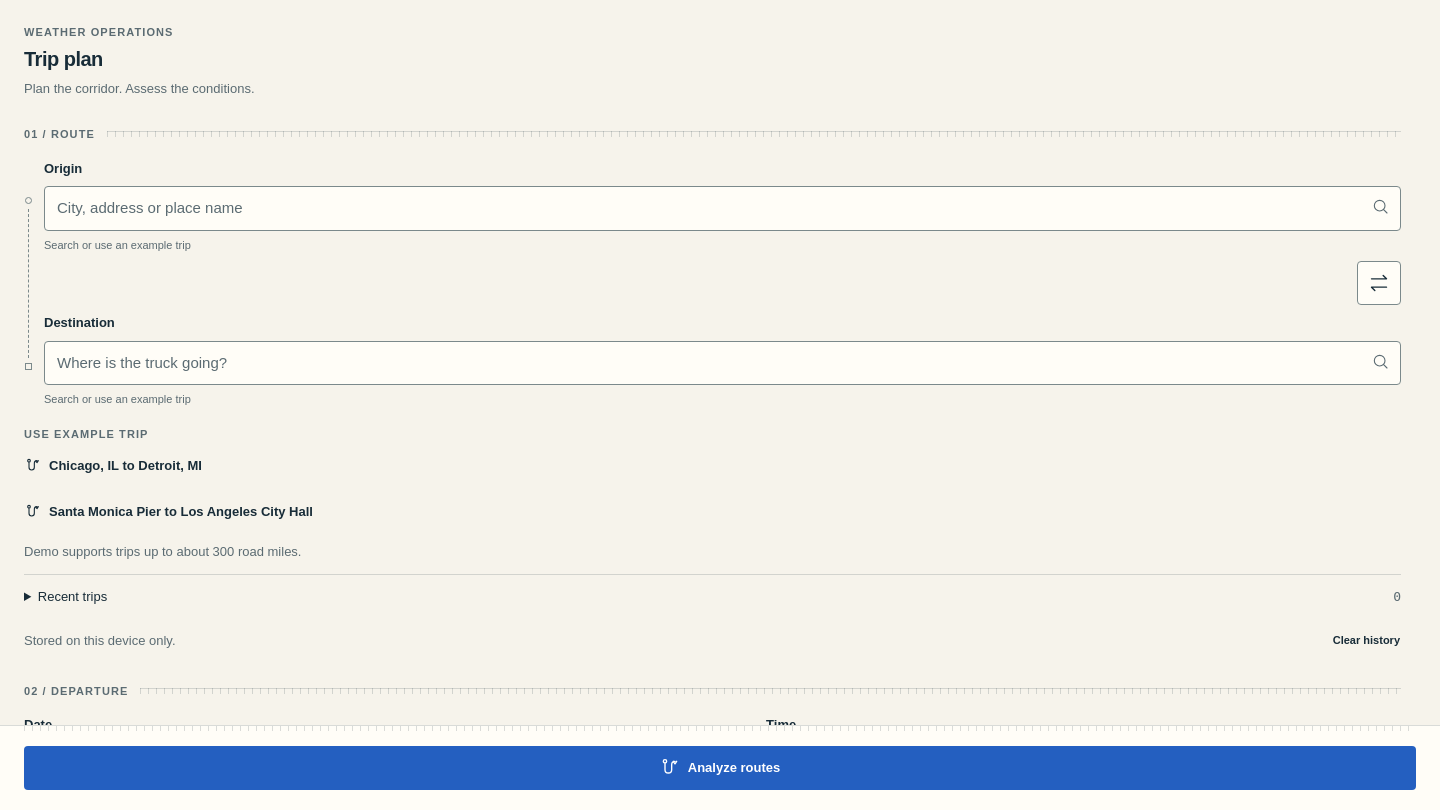
it: pending progress disables submit; cancellation aborts without an error or late success
Click the button "Chicago, IL to Detroit, MI" at (125, 466), box [24,444,1401,488]
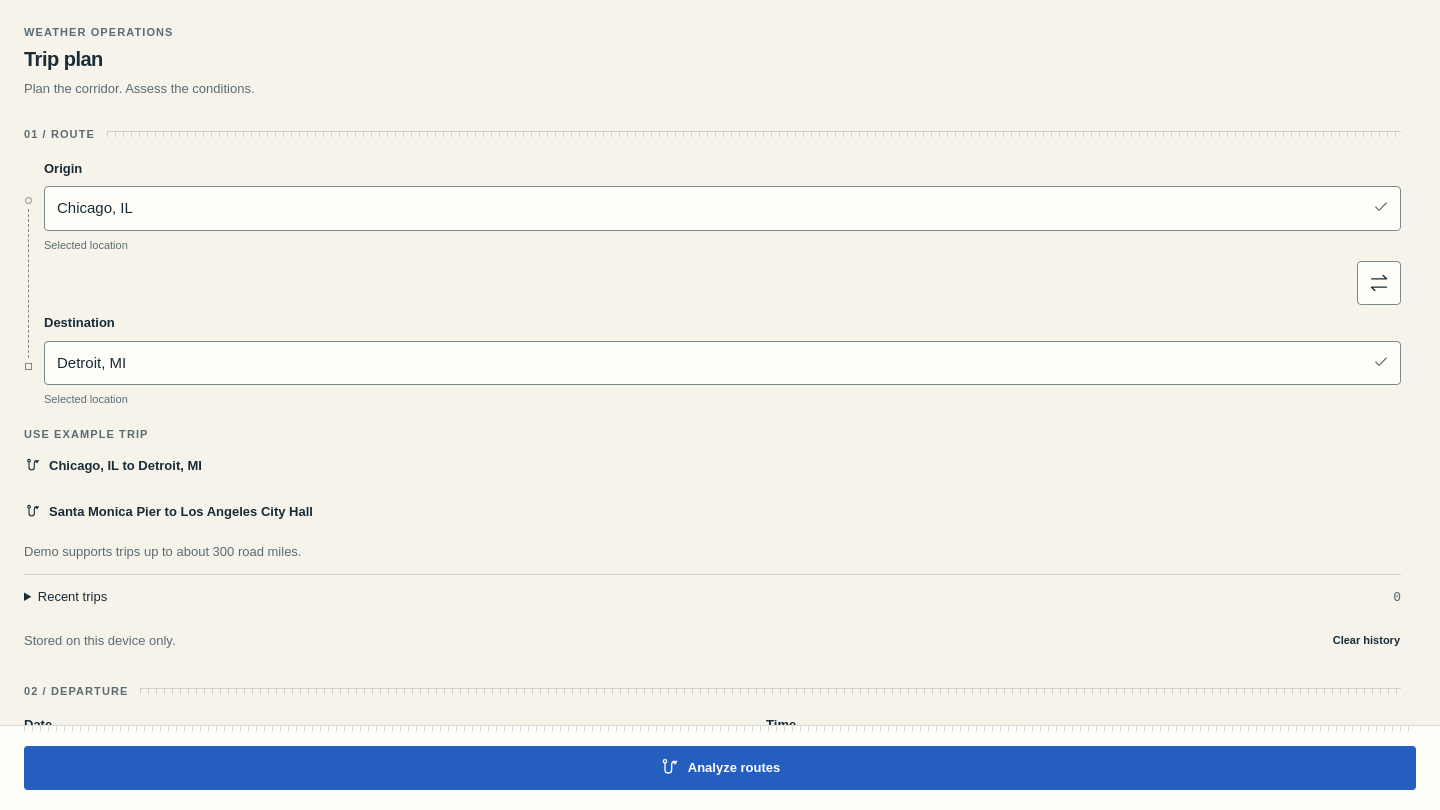
Click the button "Analyze routes" at (720, 768), box [24,746,1416,790]
Wait 9000 ms
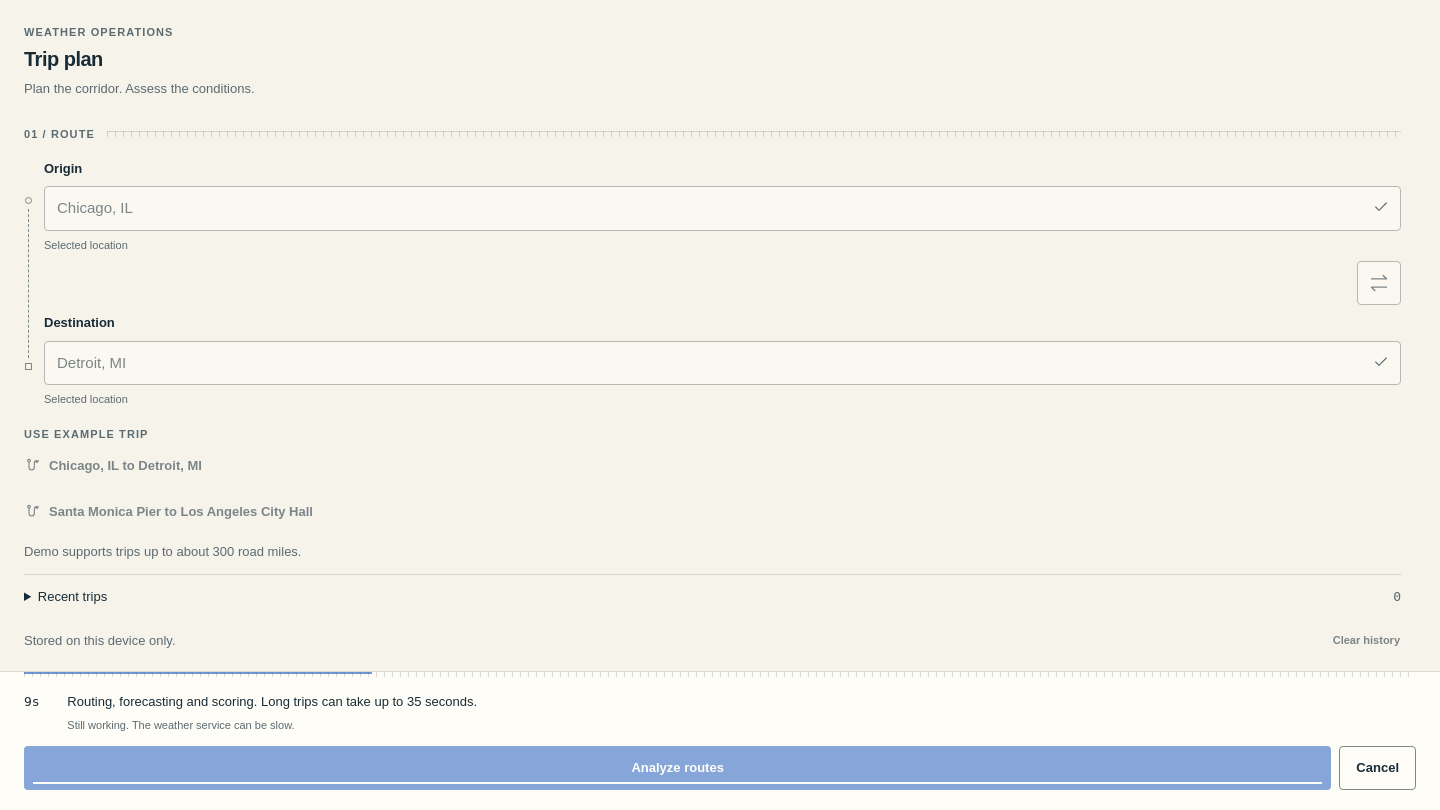
Check: the button "Analyze routes" is disabled, box [24,746,1331,790]
Check: the text "Still working. The weather service can be slow." is shown, box [67,720,295,732]
Click the button "Cancel" at (1378, 768), box [1339,746,1416,790]
Wait 50 ms
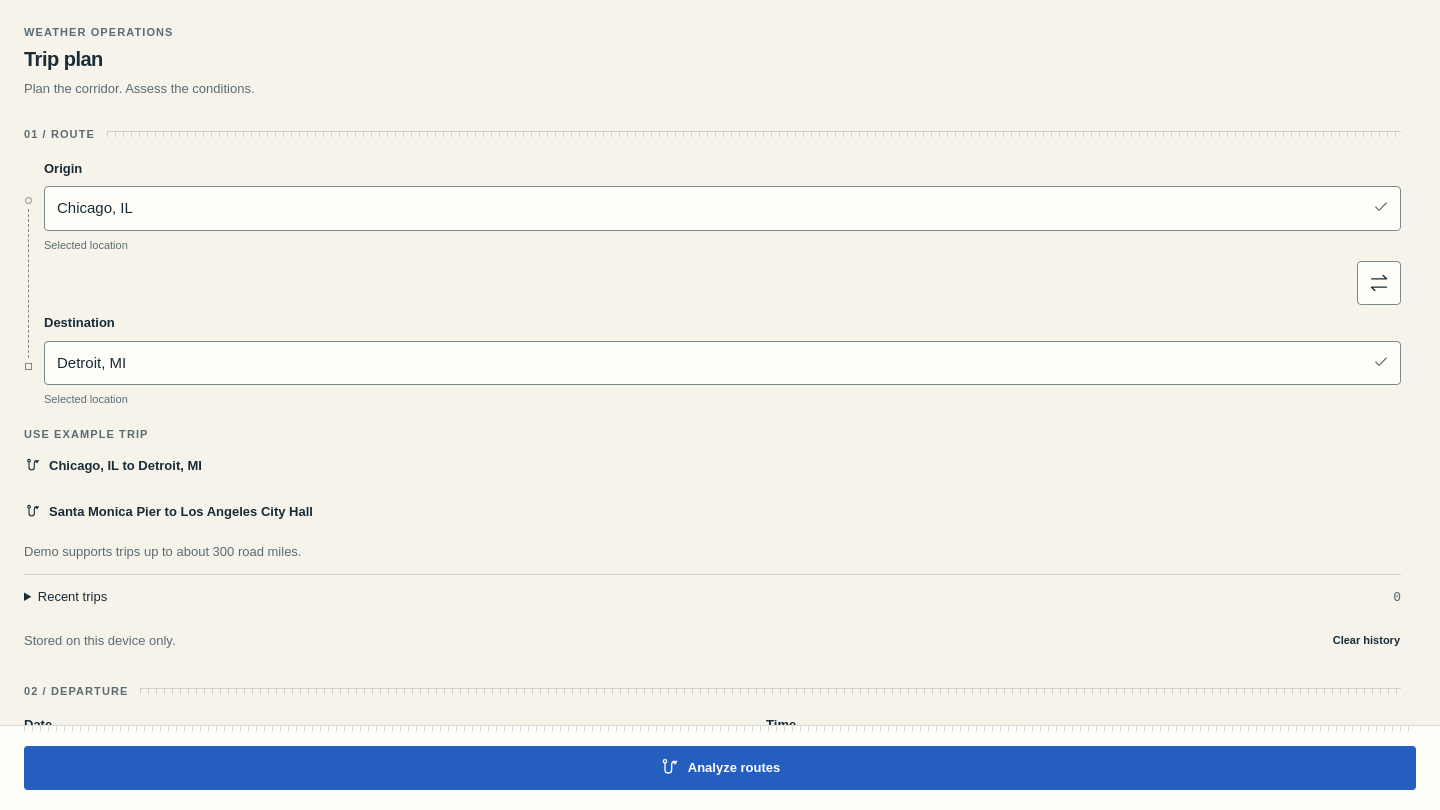
Check: the button "Analyze routes" is enabled, box [24,746,1416,790]
